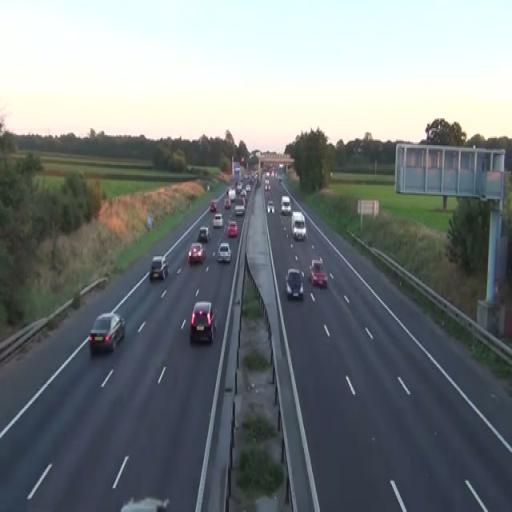Car: (88, 312, 126, 354), (190, 302, 218, 344), (286, 268, 304, 301), (309, 256, 328, 287), (149, 255, 169, 281), (292, 211, 306, 241), (187, 242, 206, 264), (216, 242, 231, 264), (281, 196, 292, 216), (226, 220, 238, 238), (198, 226, 210, 243), (213, 213, 223, 228)
